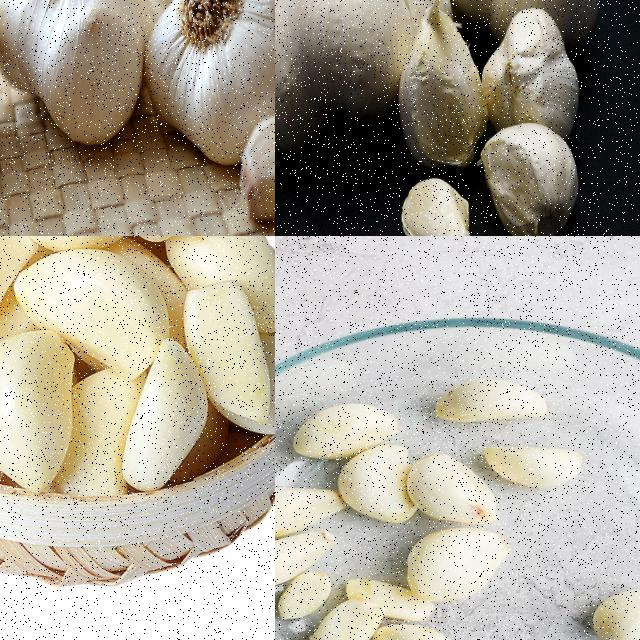garlic: (275, 383, 583, 639), (0, 236, 274, 493), (275, 0, 446, 157), (0, 0, 162, 162), (145, 0, 274, 167), (402, 2, 491, 165), (482, 13, 587, 133), (476, 119, 580, 235), (400, 174, 474, 235), (240, 103, 274, 226), (589, 585, 639, 639)
